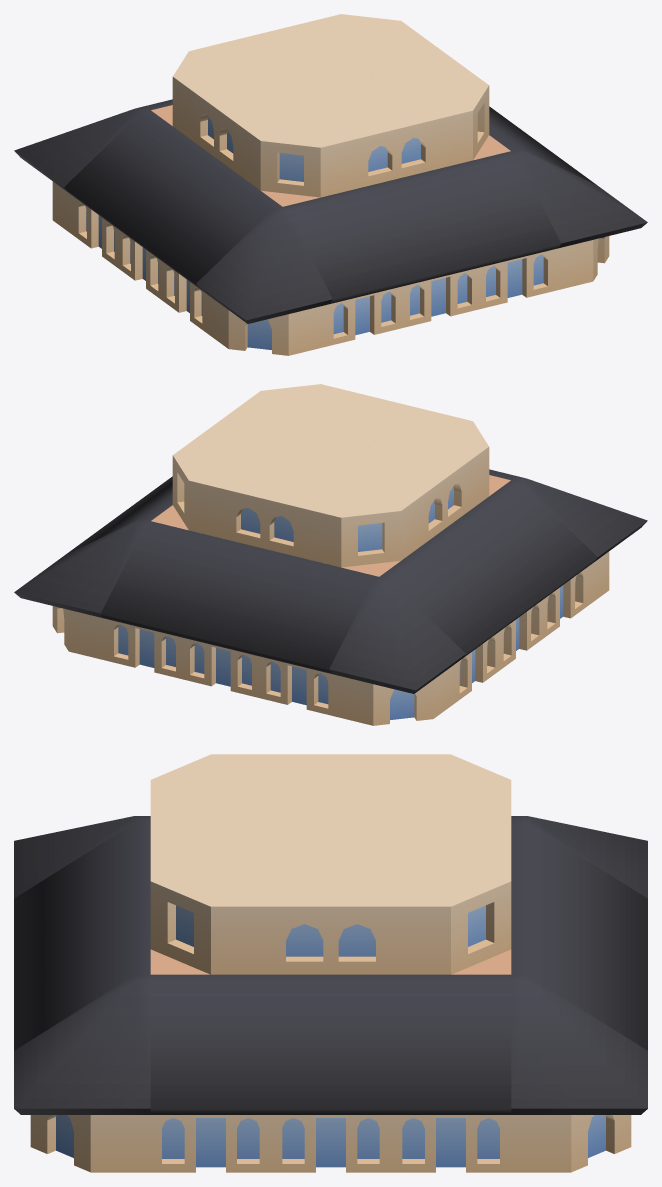
The model's file is temple.gltf.
3 renders of one model, top to bottom at view 1: azimuth 30°, elevation 25°; view 2: azimuth 150°, elevation 25°; view 3: azimuth 270°, elevation 25°, orthographic. The views are drawn at different scales.
Visible parts, largest first — view 1: roof-slanted-corner-c.001, building-corner-window.002, roof-slanted.001, roof-slanted, roof-slanted.002, building-windows-round, roof-slanted.009, roof-slanted.011, roof-slanted.010, roof-slanted-corner-c, building-corner-window, building-windows-round.004 (+17 smaller); view 2: roof-slanted-corner-c.002, building-corner-window.004, roof-slanted.003, roof-slanted.005, roof-slanted.004, building-windows-round.002, roof-slanted.009, roof-slanted.010, roof-slanted.011, roof-slanted-corner-c.003, building-corner-window.003, building-windows-round.004 (+17 smaller); view 3: roof-slanted.006, roof-slanted.007, roof-slanted.008, roof-slanted-corner-c, roof-slanted-corner-c.003, building-windows-round.003, building-corner-window, building-corner-window.003, roof-slanted.001, roof-slanted.003, roof-slanted, roof-slanted.002 (+17 smaller).
Part boxes in pixels (x1,y1,x2,y2): roof-slanted-corner-c.001: [196, 207, 332, 323]; building-corner-window.002: [238, 106, 358, 197]; roof-slanted.001: [283, 188, 408, 303]; roof-slanted: [359, 170, 484, 285]; roof-slanted.002: [435, 151, 560, 266]; building-windows-round: [315, 88, 434, 187]; roof-slanted.009: [108, 142, 238, 256]; roof-slanted.011: [152, 174, 282, 288]; roof-slanted.010: [64, 110, 194, 224]; roof-slanted-corner-c: [511, 149, 647, 247]; building-corner-window: [391, 69, 489, 169]; building-windows-round.004: [194, 74, 314, 174]; roof-slanted-corner-c.002: [329, 577, 465, 693]; building-corner-window.004: [303, 476, 423, 567]; roof-slanted.003: [253, 558, 378, 673]; roof-slanted.005: [177, 540, 302, 655]; roof-slanted.004: [101, 521, 226, 636]; building-windows-round.002: [227, 458, 346, 557]; roof-slanted.009: [423, 512, 553, 626]; roof-slanted.010: [379, 544, 509, 658]; roof-slanted.011: [467, 480, 597, 594]; roof-slanted-corner-c.003: [14, 519, 150, 617]; building-corner-window.003: [172, 439, 270, 539]; building-windows-round.004: [347, 444, 467, 544]; roof-slanted.006: [391, 974, 511, 1114]; roof-slanted.007: [150, 974, 270, 1114]; roof-slanted.008: [271, 974, 390, 1114]; roof-slanted-corner-c: [14, 974, 150, 1114]; roof-slanted-corner-c.003: [511, 974, 647, 1114]; building-windows-round.003: [271, 856, 390, 974]; building-corner-window: [150, 856, 270, 974]; building-corner-window.003: [391, 856, 511, 974]; roof-slanted.001: [14, 822, 150, 948]; roof-slanted.003: [511, 822, 647, 948]; roof-slanted: [14, 873, 150, 999]; roof-slanted.002: [14, 924, 150, 1050].
Size of the model in its own units: 5.28 by 1.98 by 5.28.
47 materials, 47 textured.
